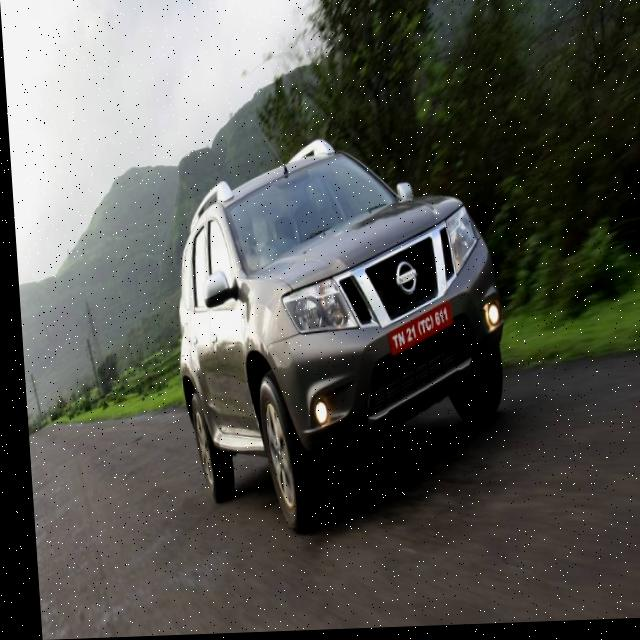plate: (382, 304, 455, 361)
